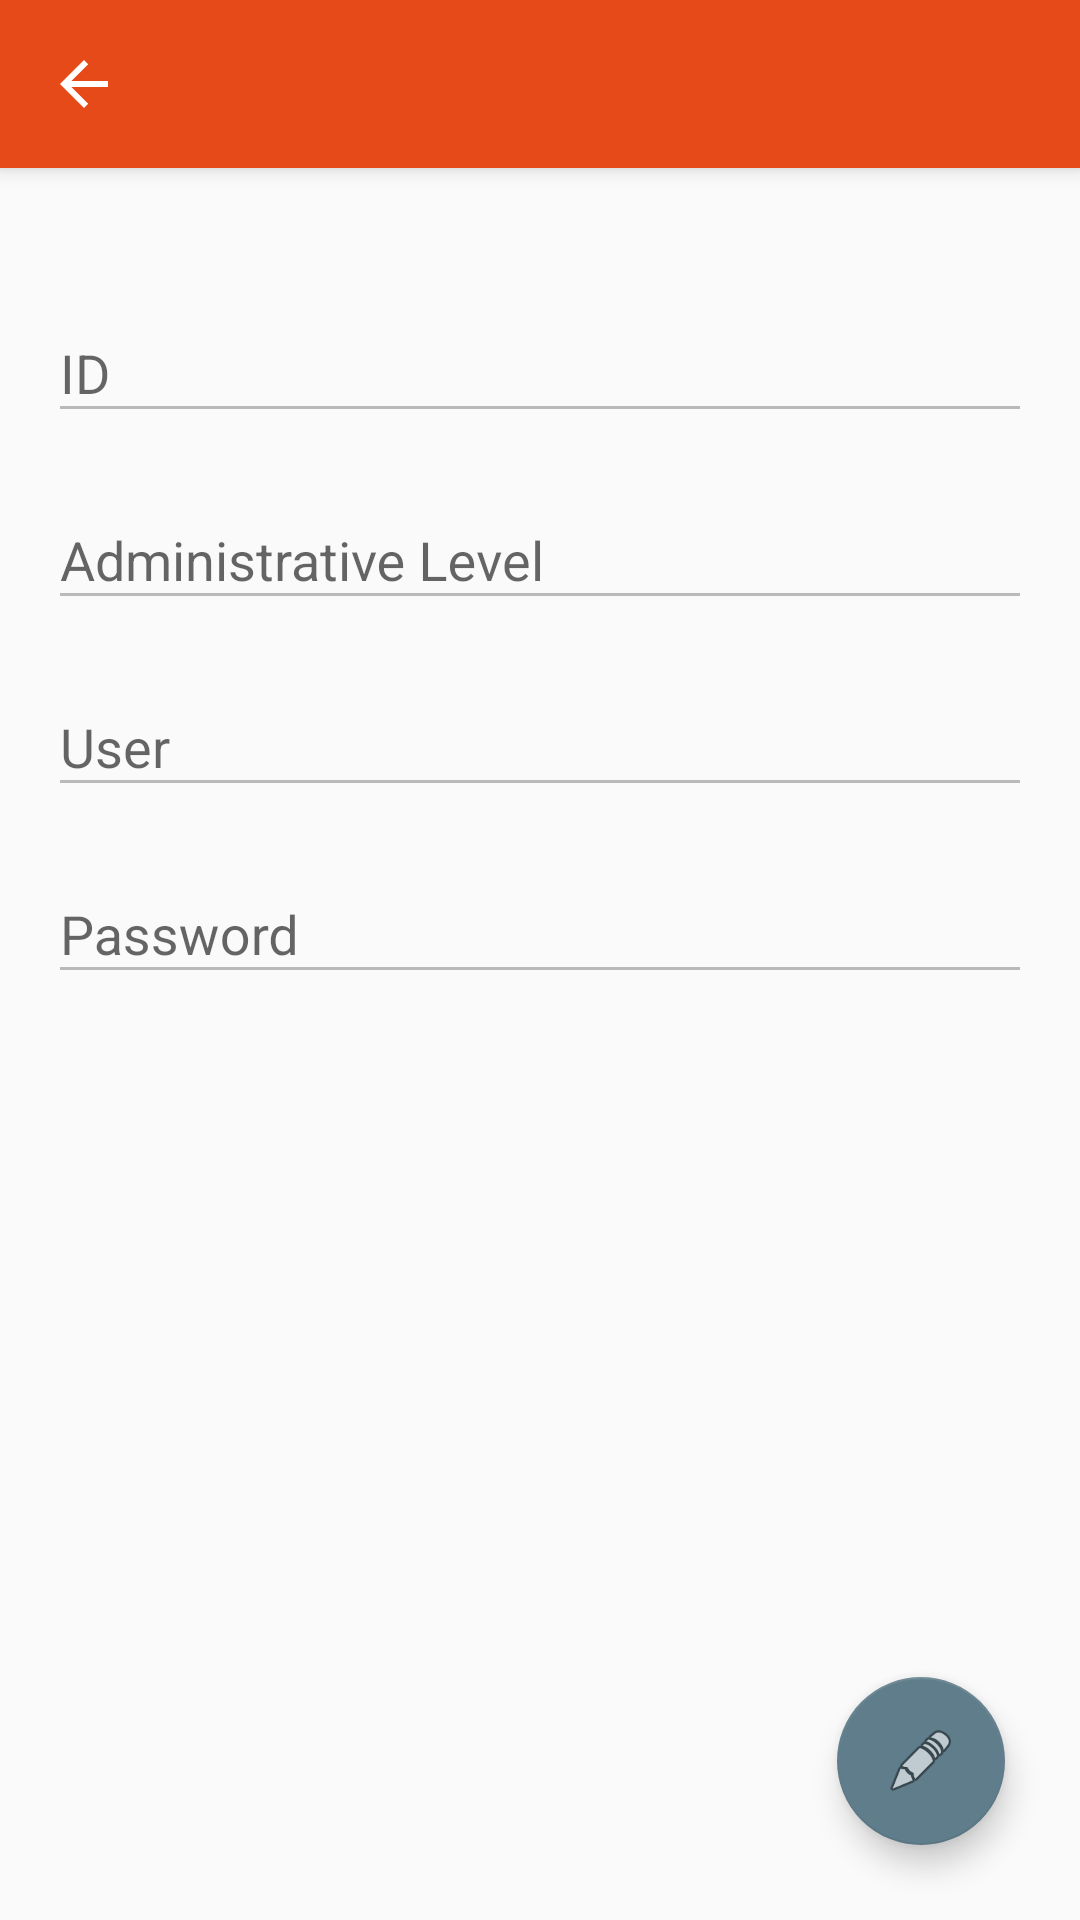

Icon bounding boxes for this 1080x1920 phone screenshot, format bbox=[x1, y1, x2, y2]:
edit: bbox=[837, 1677, 1005, 1845]
